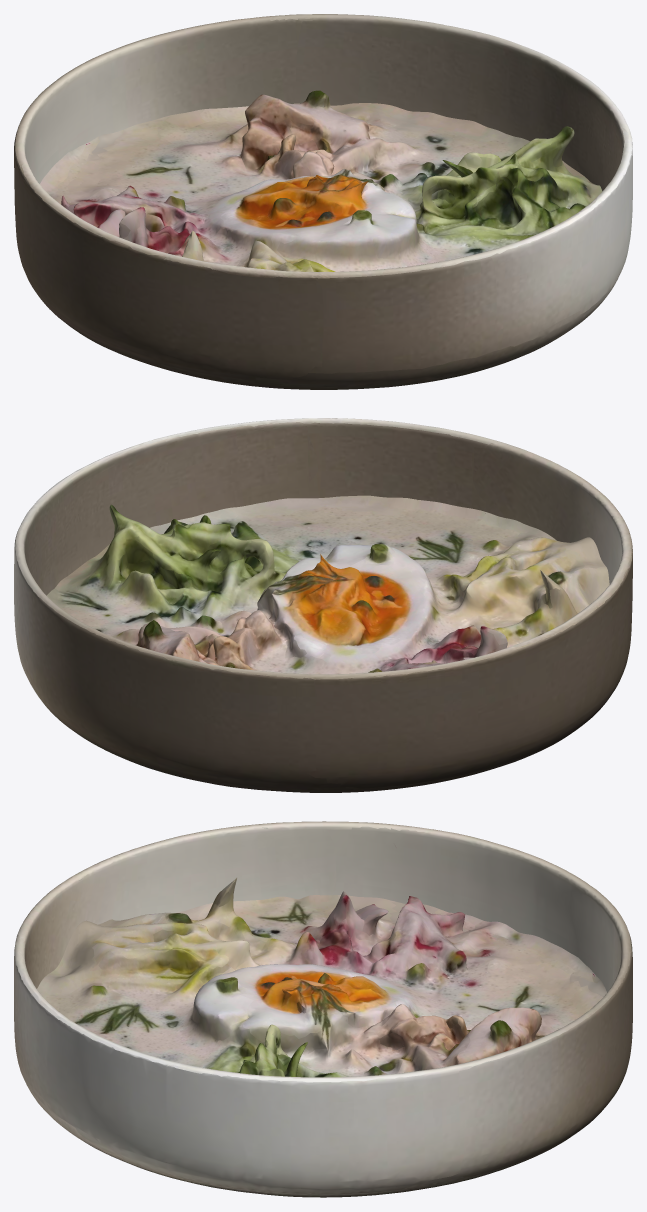
File: Okroshkaonayranwithchicken.001.glb
3 renders of one model, top to bottom at view 1: azimuth 30°, elevation 25°; view 2: azimuth 150°, elevation 25°; view 3: azimuth 270°, elevation 25°, orthographic.
Visible parts, largest first — view 1: /Root/Scenes/Scene/Object_116/Object_120/Object_121/Submesh_, /Root/Scenes/Scene/Object_116/Object_117/Submesh_0; view 2: /Root/Scenes/Scene/Object_116/Object_120/Object_121/Submesh_, /Root/Scenes/Scene/Object_116/Object_117/Submesh_0; view 3: /Root/Scenes/Scene/Object_116/Object_120/Object_121/Submesh_, /Root/Scenes/Scene/Object_116/Object_117/Submesh_0.
Part boxes in pixels (bbox=[...]): /Root/Scenes/Scene/Object_116/Object_120/Object_121/Submesh_: bbox=[14, 14, 632, 389]; /Root/Scenes/Scene/Object_116/Object_117/Submesh_0: bbox=[40, 90, 602, 271]; /Root/Scenes/Scene/Object_116/Object_120/Object_121/Submesh_: bbox=[14, 418, 632, 792]; /Root/Scenes/Scene/Object_116/Object_117/Submesh_0: bbox=[47, 495, 609, 674]; /Root/Scenes/Scene/Object_116/Object_120/Object_121/Submesh_: bbox=[14, 821, 632, 1197]; /Root/Scenes/Scene/Object_116/Object_117/Submesh_0: bbox=[37, 844, 606, 1077].
Size of the model in its own units: 0.22 by 0.0535 by 0.2198.
2 materials, 2 textured.
